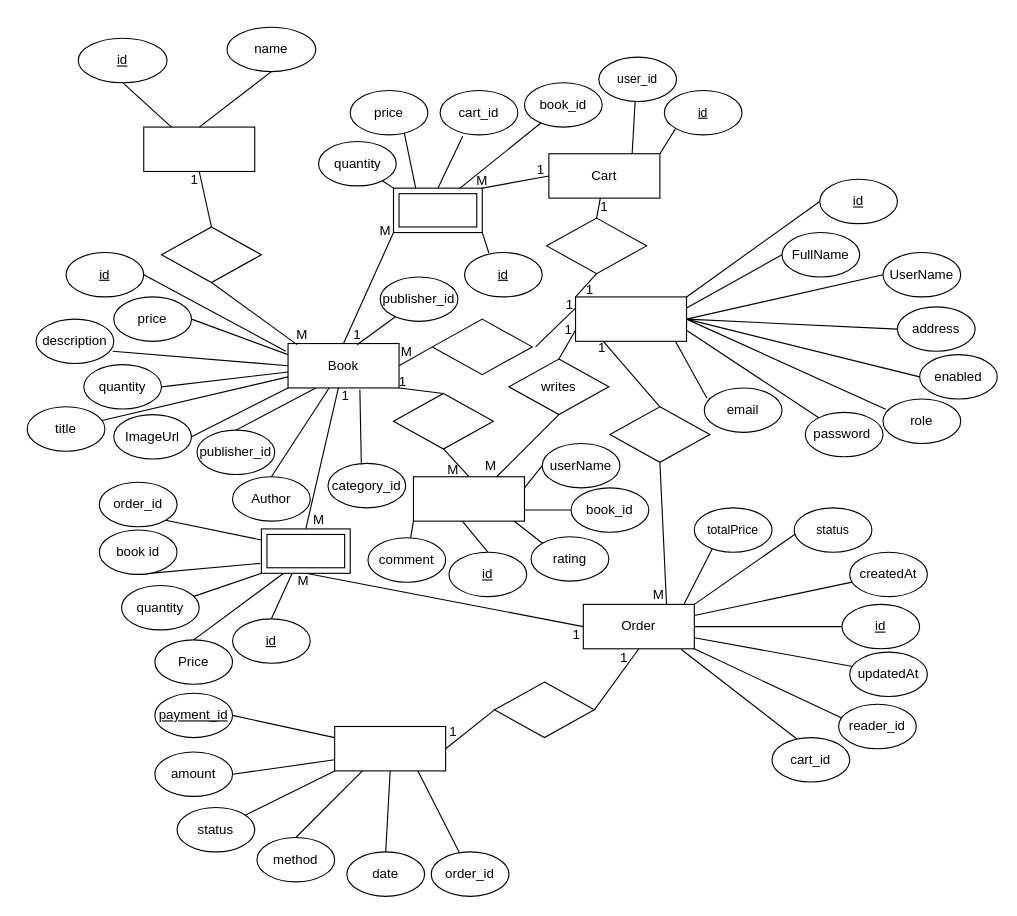
Some shapes in this 1017 by 916 pixel diagram are drawn without their labels. The centre of each missing label's shape, as x and y in pixels:
Cart_item: (x=437, y=210)
Category: (x=199, y=148)
contains: (x=210, y=254)
order_item: (x=305, y=550)
owns: (x=596, y=245)
paid_by: (x=543, y=709)
Payment: (x=390, y=748)
places: (x=659, y=434)
publishes: (x=481, y=346)
receives: (x=442, y=420)
Review: (x=468, y=498)
User: (x=630, y=318)
